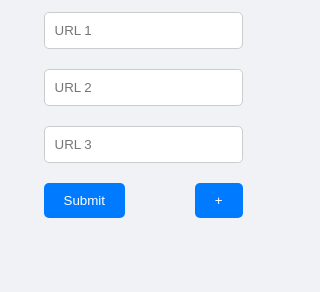
Test case: UrlsPanel Component › adds a new URL input when + button is clicked
Click the button "+".
click(219, 200)  # box [195,183,242,218]
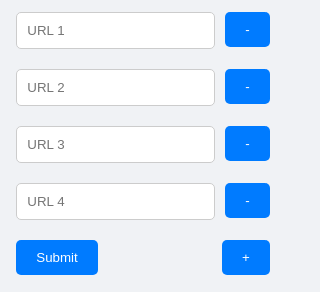
Check: the number of fields with placeholder "URL 1" is 4, box [16,12,215,49]; [16,69,215,106]; [16,126,215,163]; [16,183,215,220]
